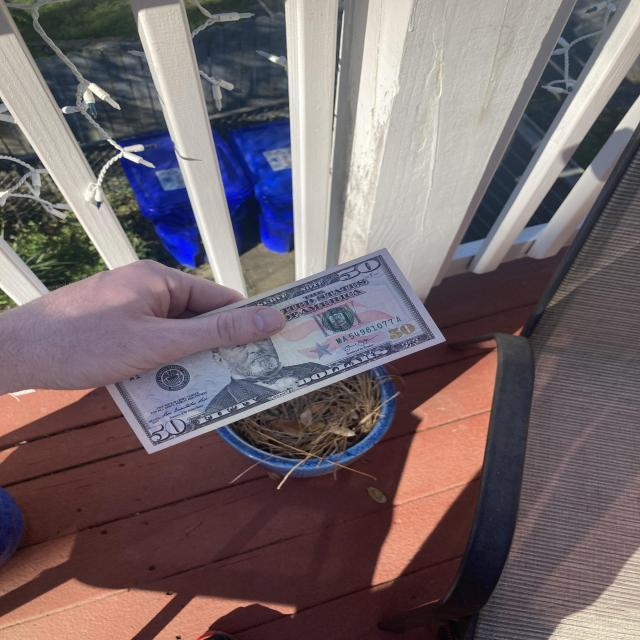fifty: (90, 247, 447, 454)
